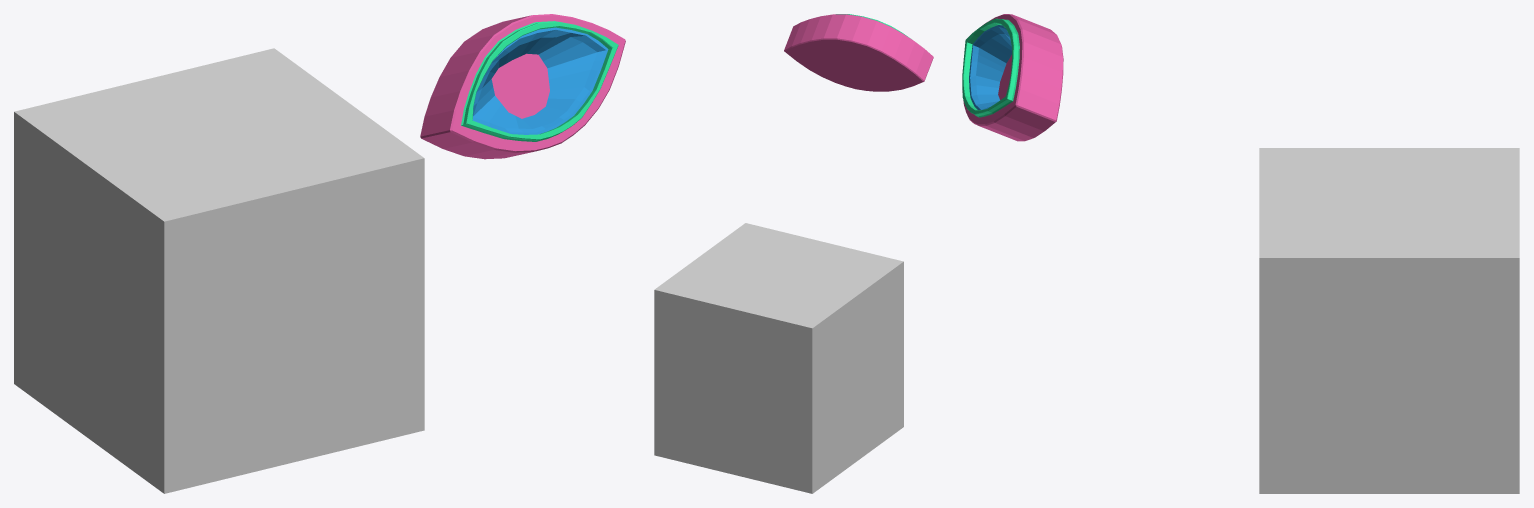
The model's file is N_Reye_Normal.fbx.
3 renders of one model, left to right at view 1: azimuth 30°, elevation 25°; view 2: azimuth 150°, elevation 25°; view 3: azimuth 270°, elevation 25°, orthographic. The views are drawn at different scales.
Visible parts, largest first — view 1: Cube, eye.002; view 2: Cube, eye.002; view 3: Cube, eye.002.
Part boxes in pixels (x1=…): Cube: x1=14, y1=48, x2=424, y2=493; eye.002: x1=420, y1=14, x2=625, y2=159; Cube: x1=654, y1=223, x2=903, y2=493; eye.002: x1=784, y1=14, x2=933, y2=91; Cube: x1=1259, y1=148, x2=1519, y2=493; eye.002: x1=962, y1=14, x2=1063, y2=141.
Bounding box in the file's own units: 247 × 384 × 428.
